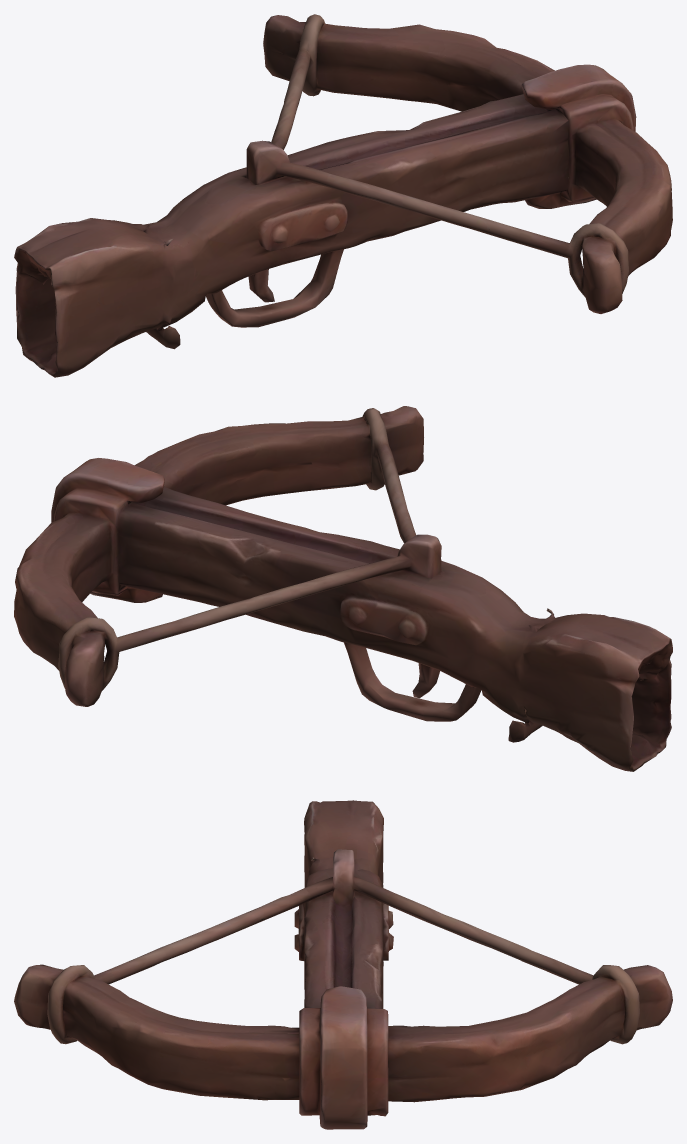
The model's file is Arm_old_xbow-BOINi-wf.glb.
The picture shows the model from 3 angles, top to bottom: view 1: azimuth 30°, elevation 25°; view 2: azimuth 150°, elevation 25°; view 3: azimuth 270°, elevation 25°; orthographic projection. The views are drawn at different scales.
Parts seen in each view (by area): view 1: Arm_old_xbow; view 2: Arm_old_xbow; view 3: Arm_old_xbow.
Part boxes in pixels (left/top/right/bottom): Arm_old_xbow: left=14, top=14, right=672, bottom=377; Arm_old_xbow: left=14, top=406, right=672, bottom=771; Arm_old_xbow: left=14, top=800, right=672, bottom=1129.
Size of the model in its own units: 1.36 by 0.3904 by 1.37.
1 material, 1 textured.
